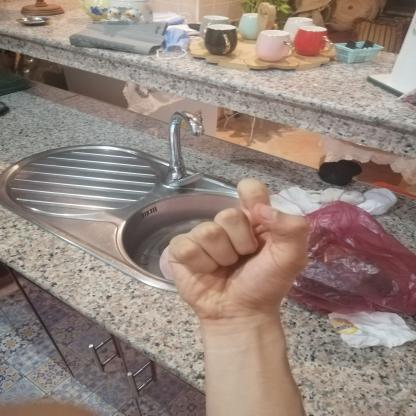FAA: (142, 170, 328, 330)
